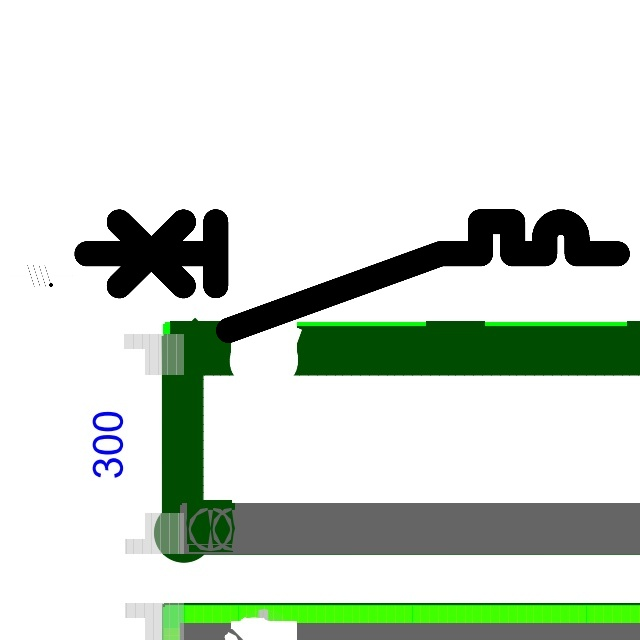interruptor_termomagnetico: (73, 208, 631, 344)
